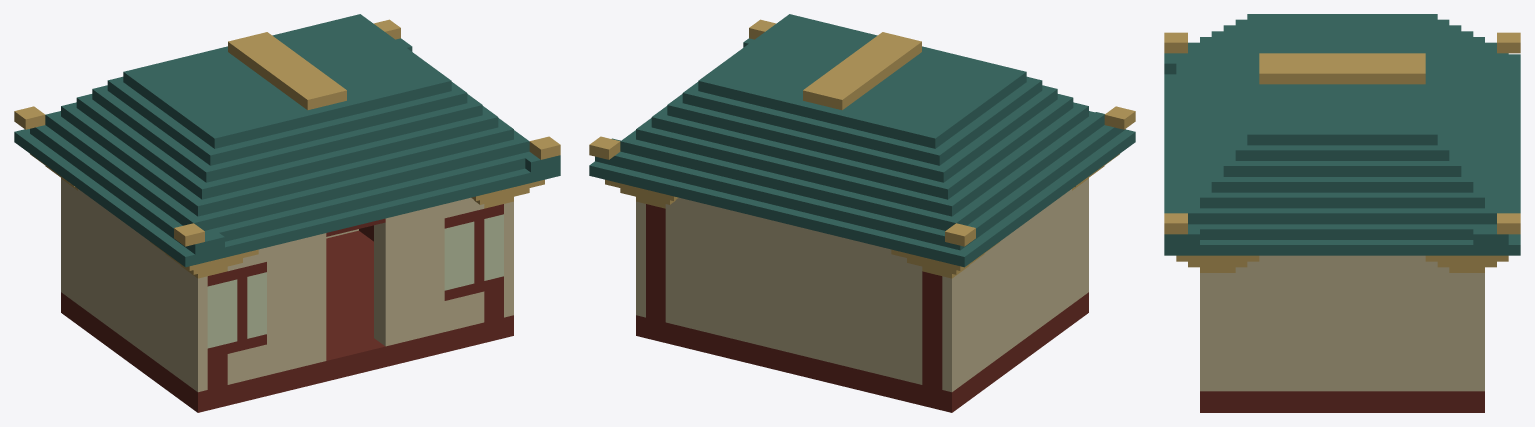
File: house.glb
3 renders of one model, left to right at view 1: azimuth 30°, elevation 25°; view 2: azimuth 150°, elevation 25°; view 3: azimuth 270°, elevation 25°, orthographic. The views are drawn at different scales.
Visible parts, largest first — view 1: Shell; view 2: Shell; view 3: Shell.
Part boxes in pixels (x1,y1,x2,y2): Shell: (14,14,560,412); Shell: (589,14,1135,412); Shell: (1164,14,1520,412).
Size of the model in its own units: 4.75 by 3.12 by 3.75.
